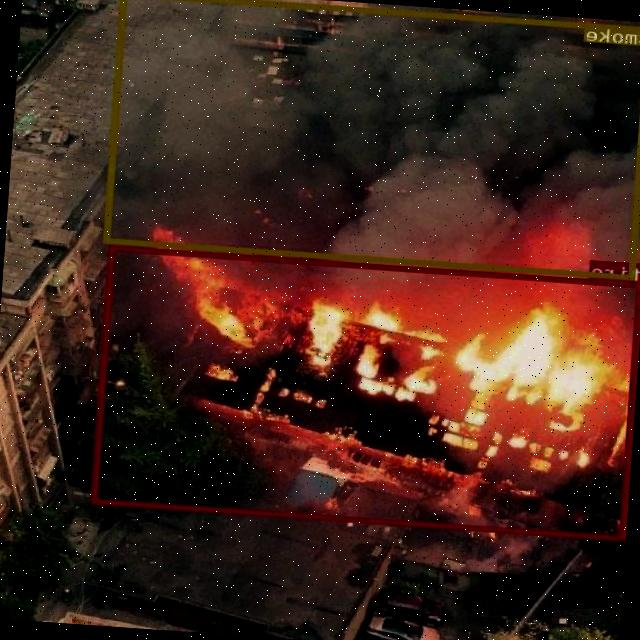fire: (91, 244, 640, 539)
smoke: (104, 0, 640, 279)
